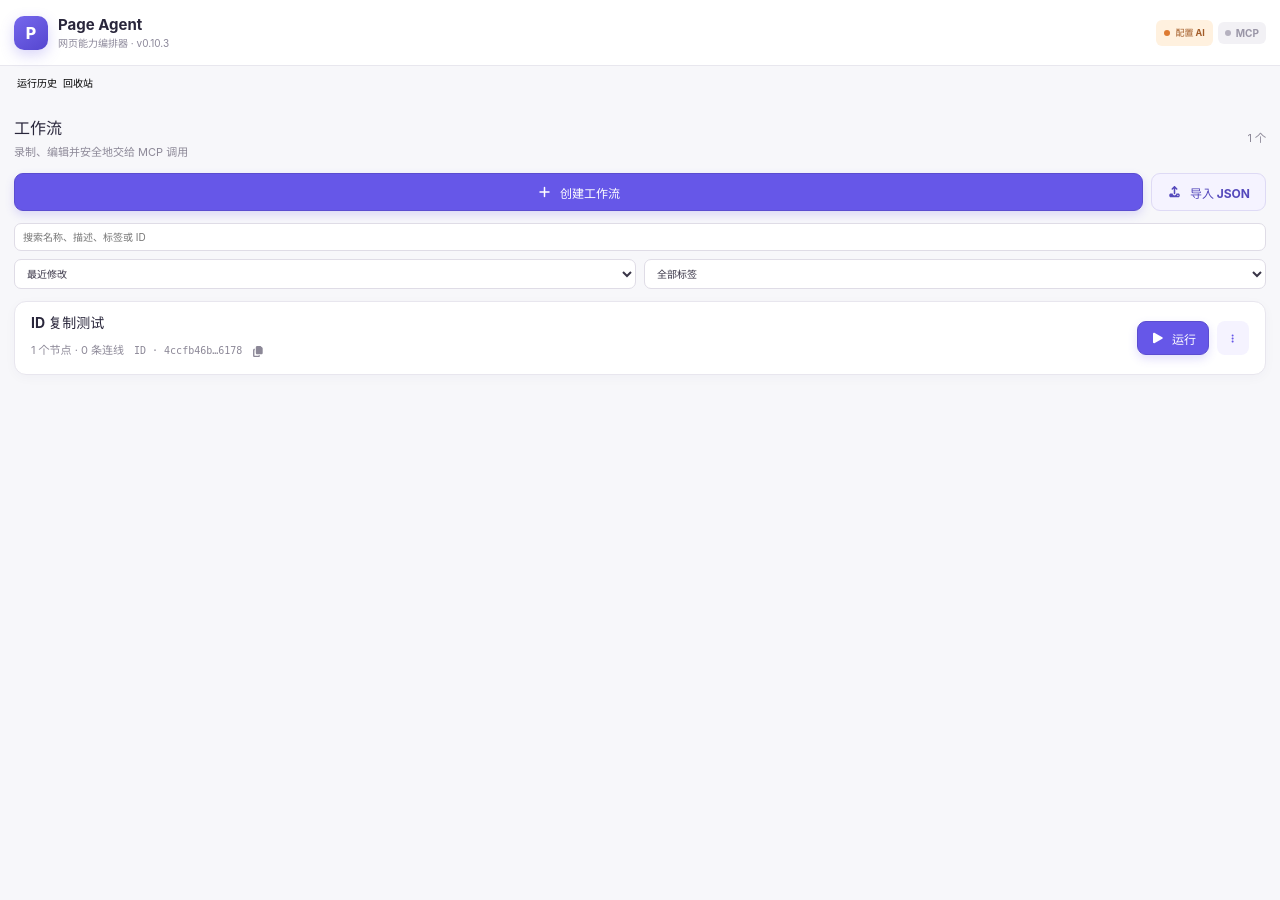
Test: workflow-first side panel › copies the full workflow ID without reading a key or running the workflow
What coordinates should you click on to do the following:
click the button with class "copy-id"
I would click on:
 (258, 351)
Its box is [245,338,271,364].
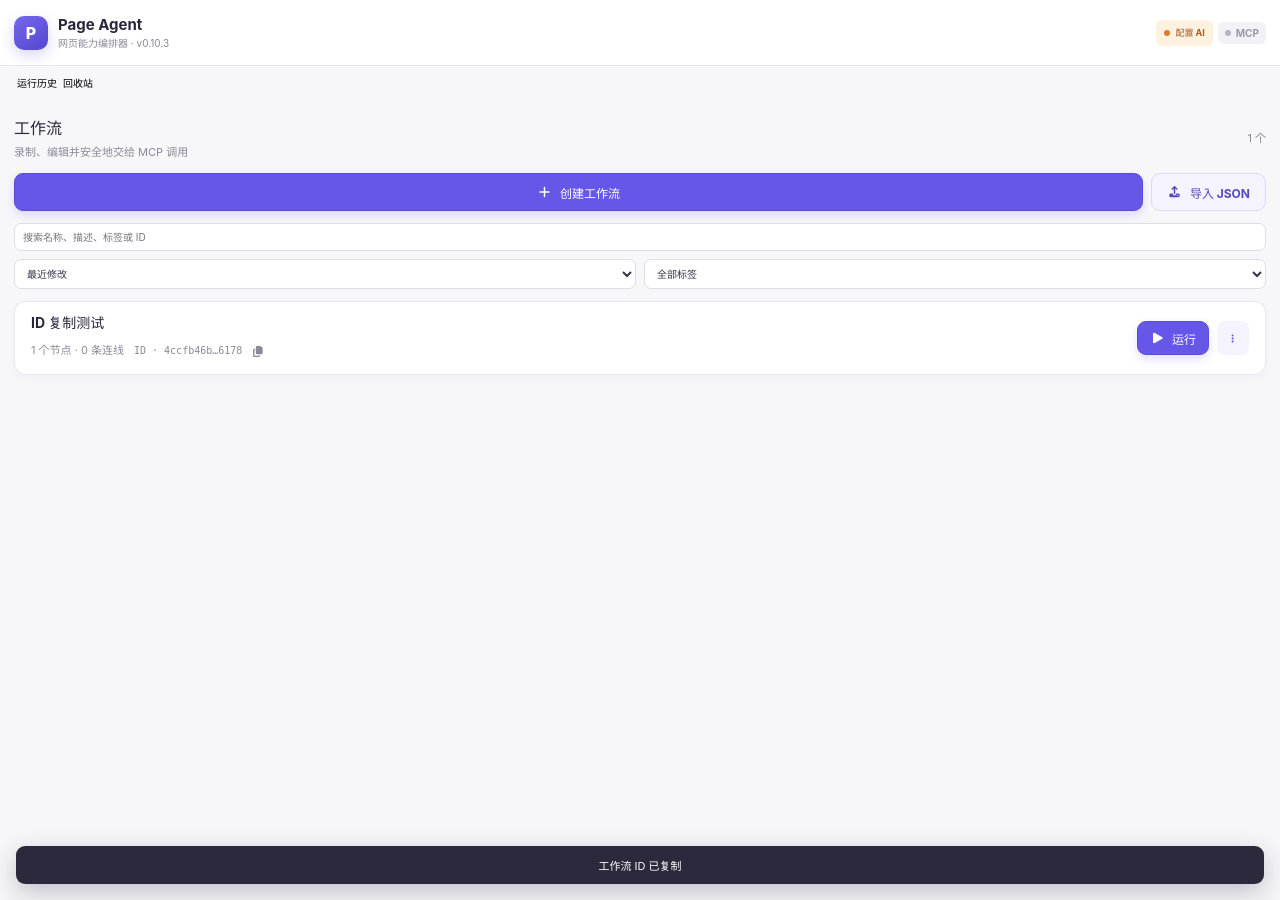
Expected: the text "工作流 ID 已复制" is shown, [16,846,1264,884]
